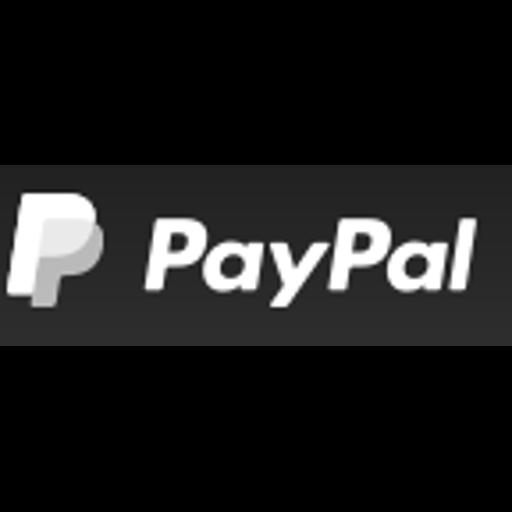PayPal: (0, 165, 512, 346)
